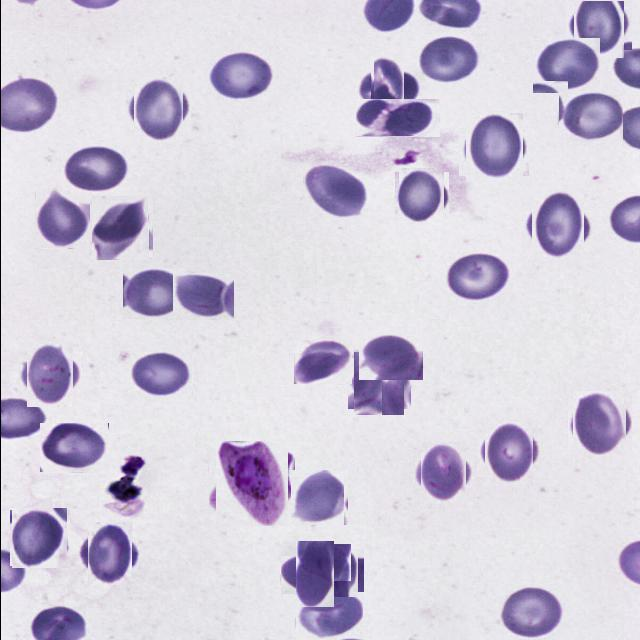red blood cell: (461, 116, 525, 180), (526, 195, 588, 257), (532, 38, 600, 94), (204, 48, 274, 102), (90, 197, 150, 258), (303, 162, 367, 217), (499, 586, 564, 640), (39, 423, 108, 473), (445, 250, 511, 302), (570, 393, 628, 452), (558, 92, 623, 144), (480, 424, 538, 482), (128, 80, 186, 138), (10, 509, 68, 567), (62, 144, 129, 194), (122, 268, 186, 320), (418, 34, 482, 85), (350, 355, 407, 412), (290, 470, 348, 526), (34, 191, 90, 249), (355, 99, 439, 137), (569, 0, 627, 55), (295, 594, 362, 640), (22, 347, 78, 402), (172, 273, 234, 321), (358, 334, 422, 380), (82, 526, 136, 580), (416, 446, 470, 500), (129, 352, 192, 398), (288, 548, 340, 600), (293, 340, 351, 384), (396, 170, 446, 220), (362, 61, 411, 110), (312, 546, 360, 594)
schizont: (212, 444, 290, 524)
